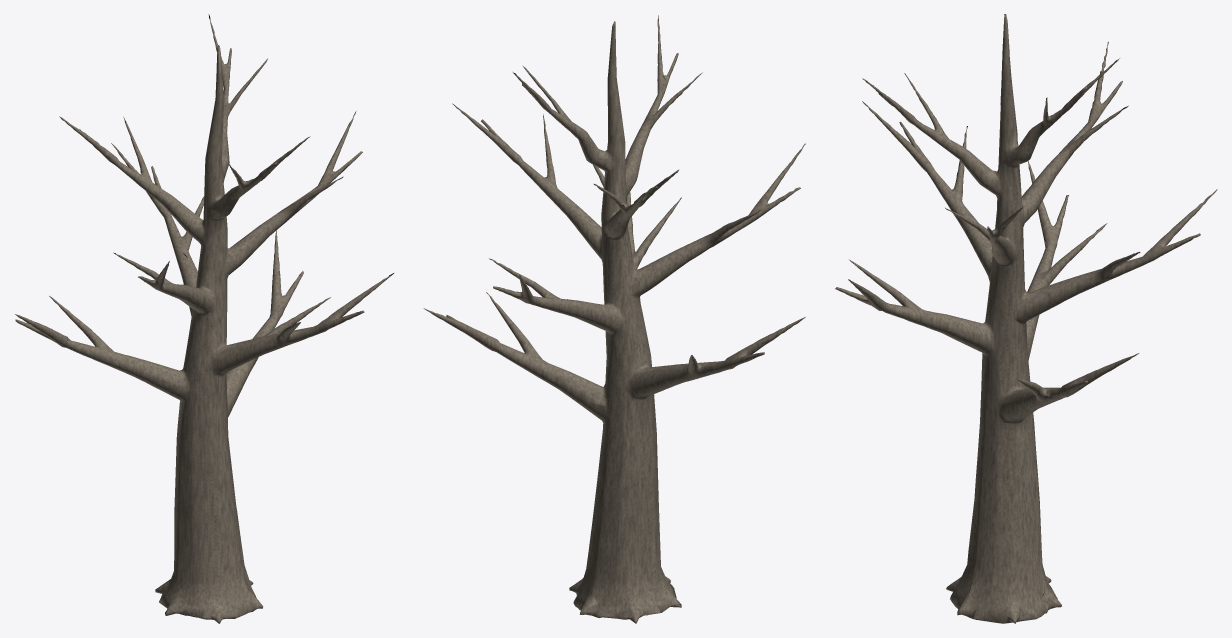
Rendered from ConnectedWood.fbx.
3 views of the same model, side by side, from view 1: azimuth 30°, elevation 25°; view 2: azimuth 150°, elevation 25°; view 3: azimuth 270°, elevation 25° (orthographic). The views are drawn at different scales.
Parts seen in each view (by area): view 1: GinkgoConnectedWood; view 2: GinkgoConnectedWood; view 3: GinkgoConnectedWood.
Part boxes in pixels (<box>): GinkgoConnectedWood: <box>15,14,393,623</box>; GinkgoConnectedWood: <box>423,15,805,623</box>; GinkgoConnectedWood: <box>835,14,1217,623</box>.
Bounding box in the file's own units: 64.32 × 100 × 58.48.
Materials: 1 (1 with a texture image).
